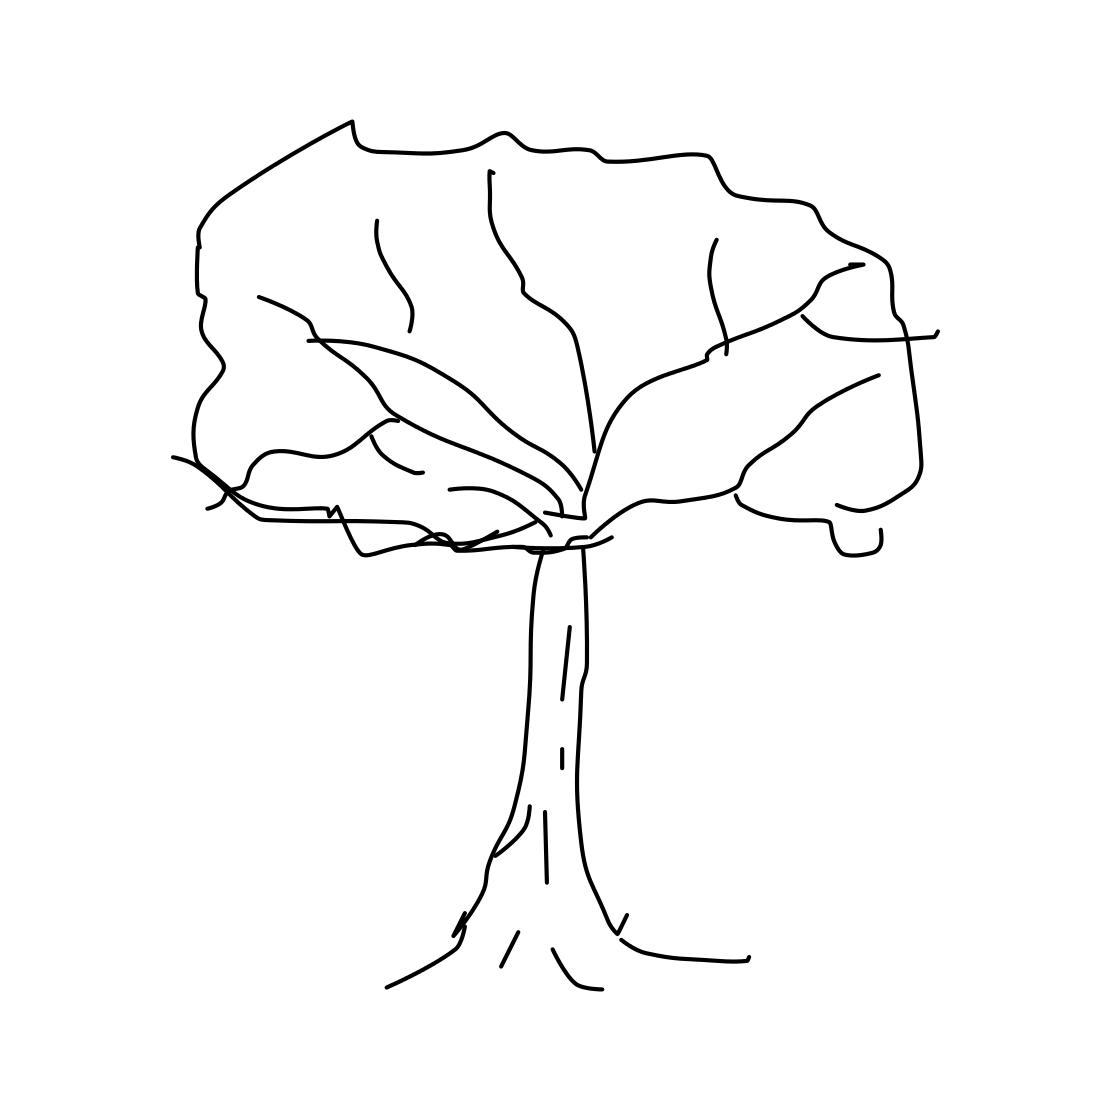Tree: (140, 67, 951, 992)
